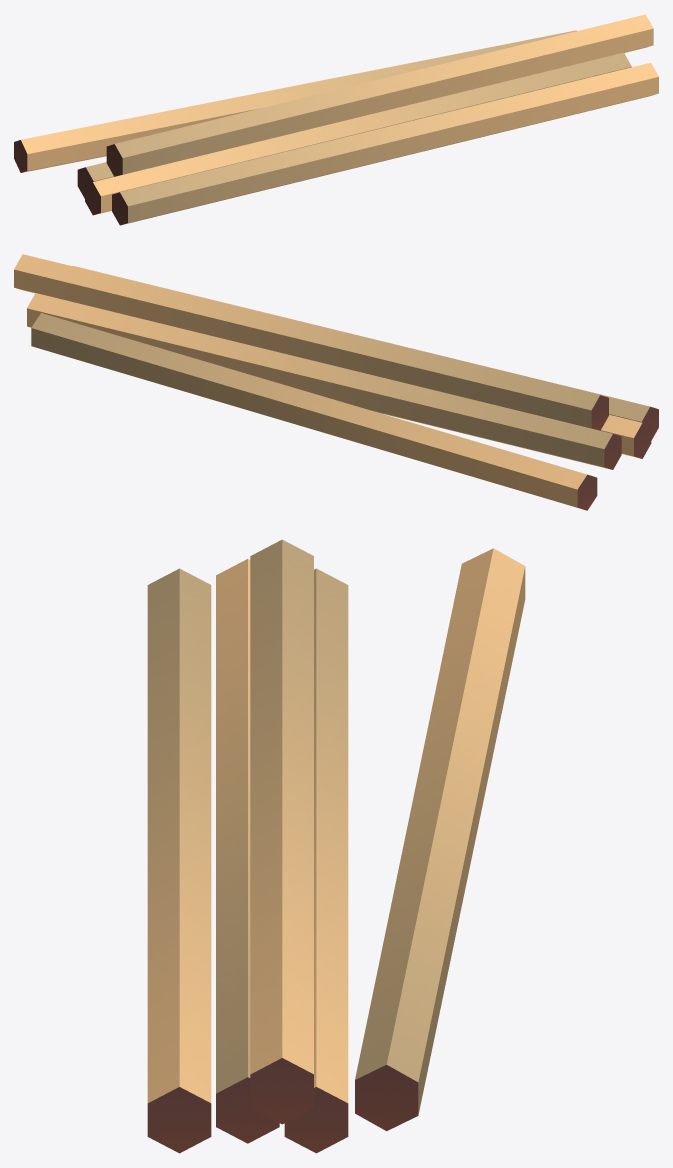
The model's file is Lumber_Group.fbx.
The picture shows the model from 3 angles, top to bottom: view 1: azimuth 30°, elevation 25°; view 2: azimuth 150°, elevation 25°; view 3: azimuth 270°, elevation 25°; orthographic projection. The views are drawn at different scales.
Parts seen in each view (by area): view 1: polySurface39; view 2: polySurface39; view 3: polySurface39.
Part boxes in pixels (x1,y1,x2,y2): polySurface39: (14,14,658,225); polySurface39: (14,254,658,510); polySurface39: (147,539,525,1153).
Size of the model in its own units: 5.4 by 0.5197 by 1.54.
1 material, 1 textured.
